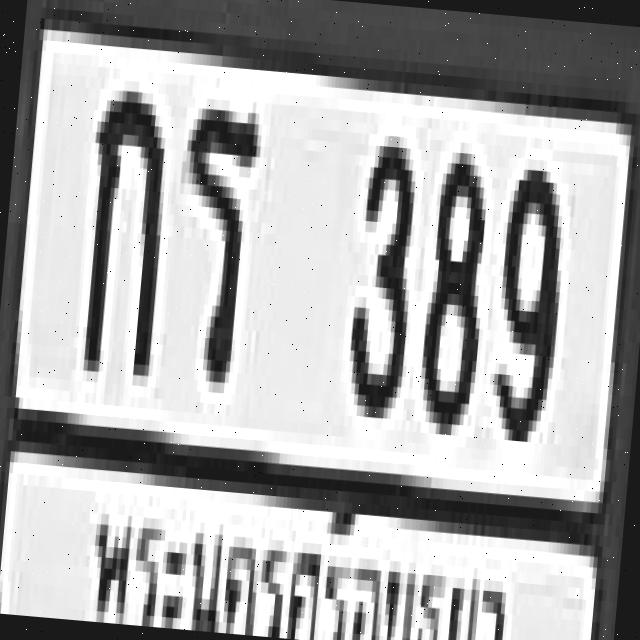10GorGai: (56, 63, 190, 408)
3: (331, 122, 429, 437)
44RorRuea: (158, 70, 274, 439)
8: (404, 124, 498, 478)
9: (475, 132, 592, 478)
